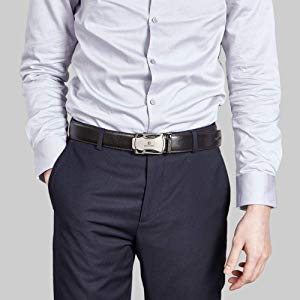F_belt: (65, 119, 220, 160)
F_dress pants: (46, 153, 234, 293)
F_shirt: (17, 1, 275, 183)
